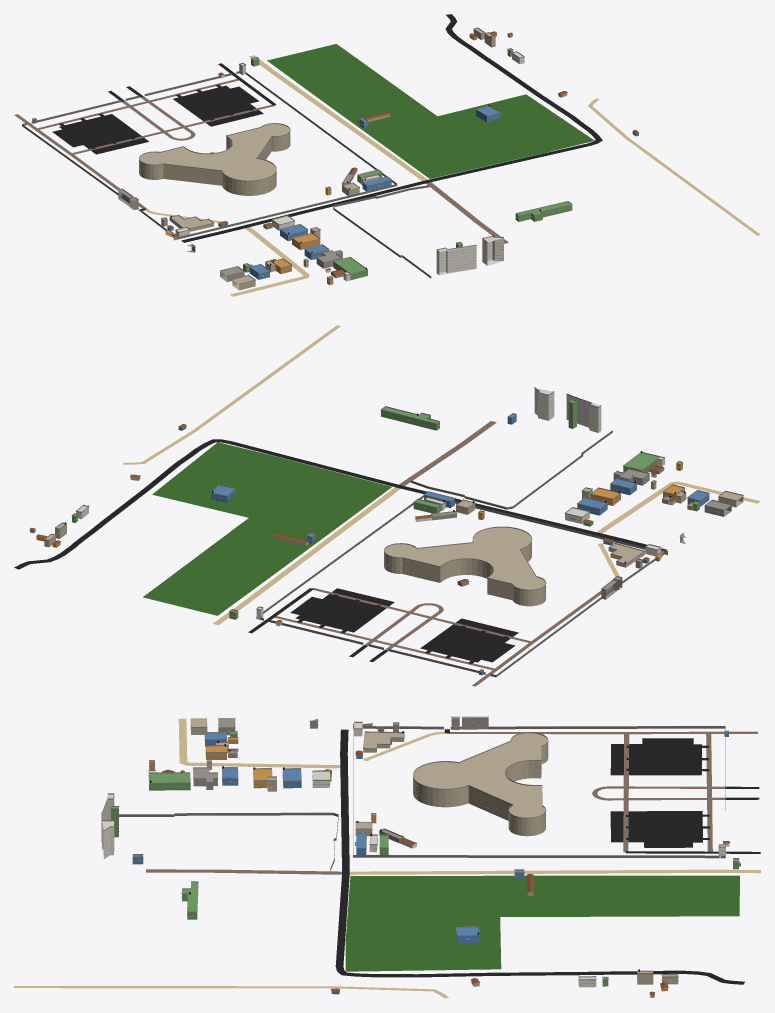
Rendered from zone_t5_-1.glb.
3 renders of one model, top to bottom at view 1: azimuth 30°, elevation 25°; view 2: azimuth 150°, elevation 25°; view 3: azimuth 270°, elevation 25°, orthographic. The views are drawn at different scales.
Parts seen in each view (by area): view 1: zone_herbe_t5_-1, bld_peinture_ecaillee_t5_-1-col, zone_parking_t5_-1, parapet_t5_-1, mur_wall_t5_-1-col, route_unclassified_bitume_t5_-1, bld_peinture_blanc_t5_-1-col, route_service_paves_t5_-1, route_residential_terre_t5_-1, bld_peinture_bleu_t5_-1-col, bld_peinture_vert_t5_-1-col, route_service_bitume_t5_-1 (+4 smaller); view 2: zone_herbe_t5_-1, bld_peinture_ecaillee_t5_-1-col, zone_parking_t5_-1, parapet_t5_-1, mur_wall_t5_-1-col, route_unclassified_bitume_t5_-1, route_service_paves_t5_-1, bld_peinture_blanc_t5_-1-col, route_residential_terre_t5_-1, bld_peinture_vert_t5_-1-col, bld_peinture_bleu_t5_-1-col, route_service_bitume_t5_-1 (+4 smaller); view 3: zone_herbe_t5_-1, bld_peinture_ecaillee_t5_-1-col, zone_parking_t5_-1, route_unclassified_bitume_t5_-1, parapet_t5_-1, mur_wall_t5_-1-col, route_service_paves_t5_-1, route_residential_terre_t5_-1, route_service_bitume_t5_-1, bld_peinture_bleu_t5_-1-col, bld_peinture_vert_t5_-1-col, bld_peinture_blanc_t5_-1-col (+6 smaller).
Boxes of the visible parts, <box> form: zone_herbe_t5_-1: <box>267,44,594,178</box>; bld_peinture_ecaillee_t5_-1-col: <box>139,28,567,290</box>; zone_parking_t5_-1: <box>52,85,263,154</box>; parapet_t5_-1: <box>32,27,572,284</box>; mur_wall_t5_-1-col: <box>22,71,431,278</box>; route_unclassified_bitume_t5_-1: <box>181,14,602,242</box>; bld_peinture_blanc_t5_-1-col: <box>175,52,524,281</box>; route_service_paves_t5_-1: <box>14,79,275,208</box>; route_residential_terre_t5_-1: <box>230,55,427,296</box>; bld_peinture_bleu_t5_-1-col: <box>32,106,638,279</box>; bld_peinture_vert_t5_-1-col: <box>243,49,572,279</box>; route_service_bitume_t5_-1: <box>59,63,276,210</box>; zone_herbe_t5_-1: <box>143,442,391,615</box>; bld_peinture_ecaillee_t5_-1-col: <box>44,476,743,606</box>; zone_parking_t5_-1: <box>290,588,518,662</box>; parapet_t5_-1: <box>44,387,743,672</box>; mur_wall_t5_-1-col: <box>256,430,663,677</box>; route_unclassified_bitume_t5_-1: <box>14,439,667,569</box>; route_service_paves_t5_-1: <box>274,588,601,686</box>; bld_peinture_blanc_t5_-1-col: <box>76,388,675,626</box>; route_residential_terre_t5_-1: <box>213,481,760,625</box>; bld_peinture_vert_t5_-1-col: <box>72,400,699,619</box>; bld_peinture_bleu_t5_-1-col: <box>178,414,709,675</box>; route_service_bitume_t5_-1: <box>248,588,508,663</box>; zone_herbe_t5_-1: <box>345,875,739,971</box>; bld_peinture_ecaillee_t5_-1-col: <box>191,718,678,986</box>; zone_parking_t5_-1: <box>610,738,702,847</box>; route_unclassified_bitume_t5_-1: <box>335,729,744,984</box>; parapet_t5_-1: <box>101,715,739,980</box>; mur_wall_t5_-1-col: <box>119,726,725,870</box>; route_service_paves_t5_-1: <box>447,731,757,852</box>; route_residential_terre_t5_-1: <box>178,718,760,874</box>; route_service_bitume_t5_-1: <box>444,729,760,853</box>; bld_peinture_bleu_t5_-1-col: <box>132,729,728,994</box>; bld_peinture_vert_t5_-1-col: <box>111,732,738,986</box>; bld_peinture_blanc_t5_-1-col: <box>101,723,729,987</box>.
Size of the model in its own units: 516 by 25.9 by 582.
